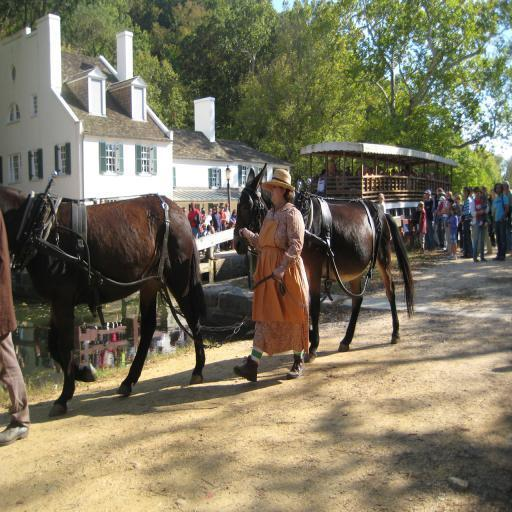horse: (0, 186, 208, 420), (232, 160, 418, 366)
